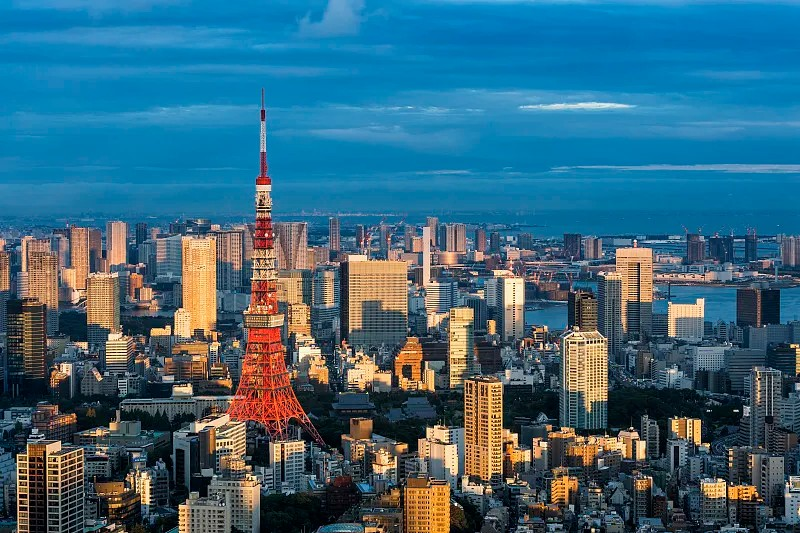Tokyo: (221, 85, 330, 449)
